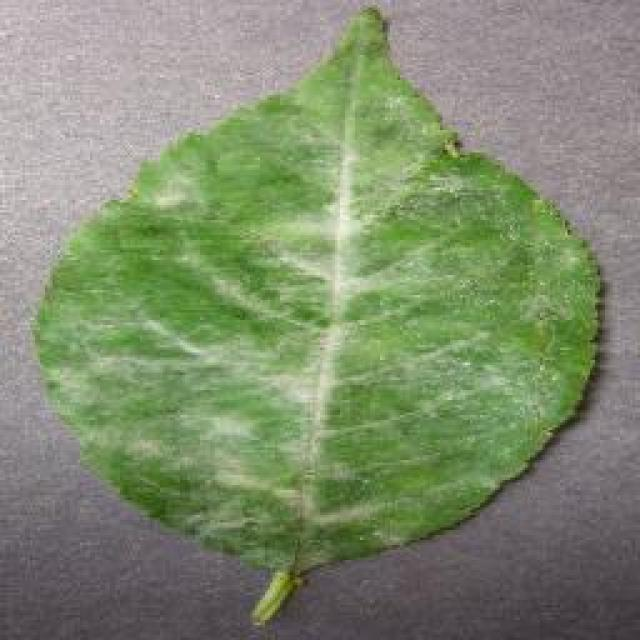Cherry___Powdery_mildew: (15, 2, 615, 638)
